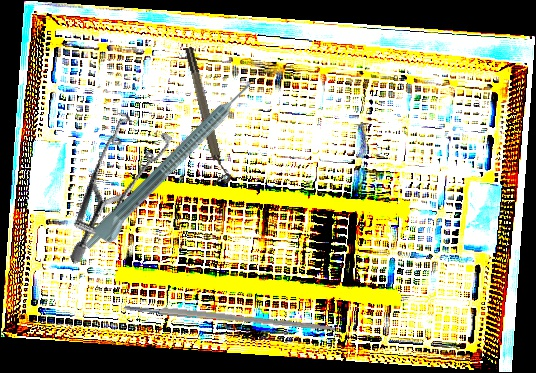Fixation Ring: (182, 44, 233, 187)
Handpiece: (81, 77, 263, 260)
Scalpel Handle: (124, 301, 336, 334)
Speculum: (20, 96, 203, 265)
